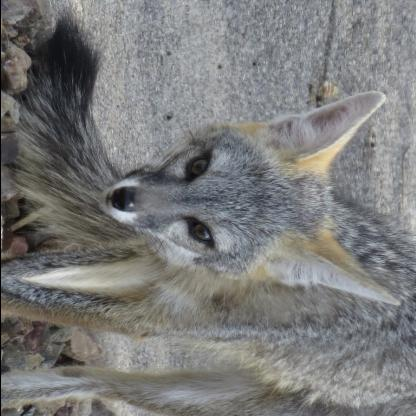zorro: (2, 2, 416, 416)
